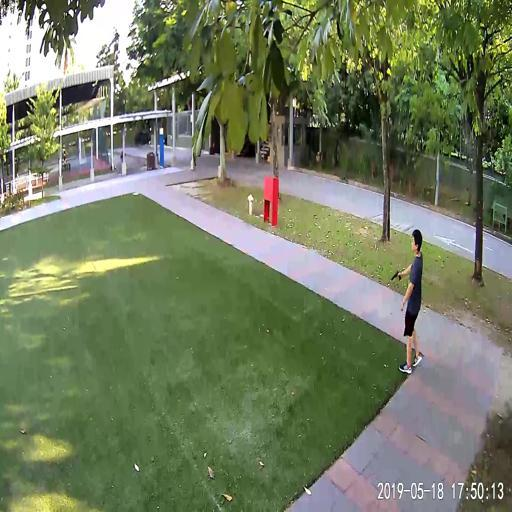Handgun: (389, 269, 400, 281)
